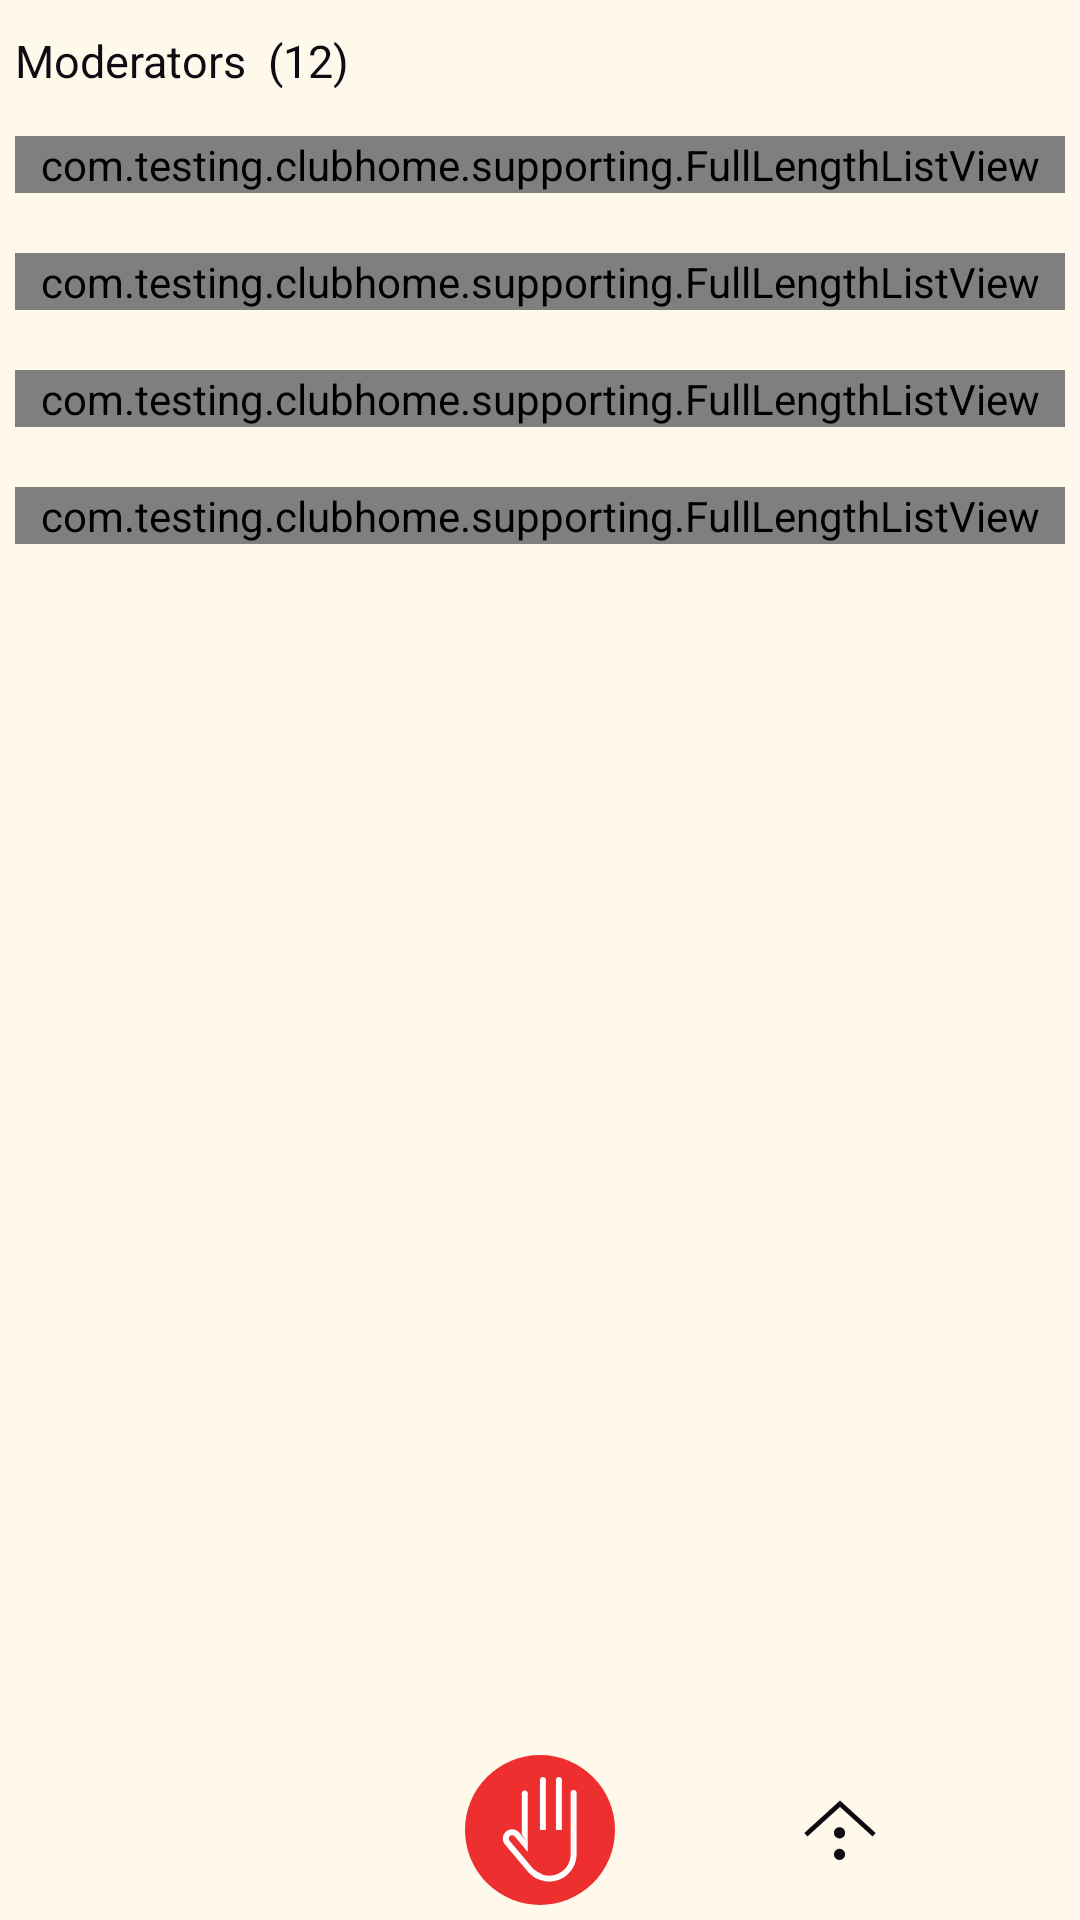

Icons on this 1080x1920 Android screen, each with the point to tap as point (x, y):
handraise: point (539, 1829)
